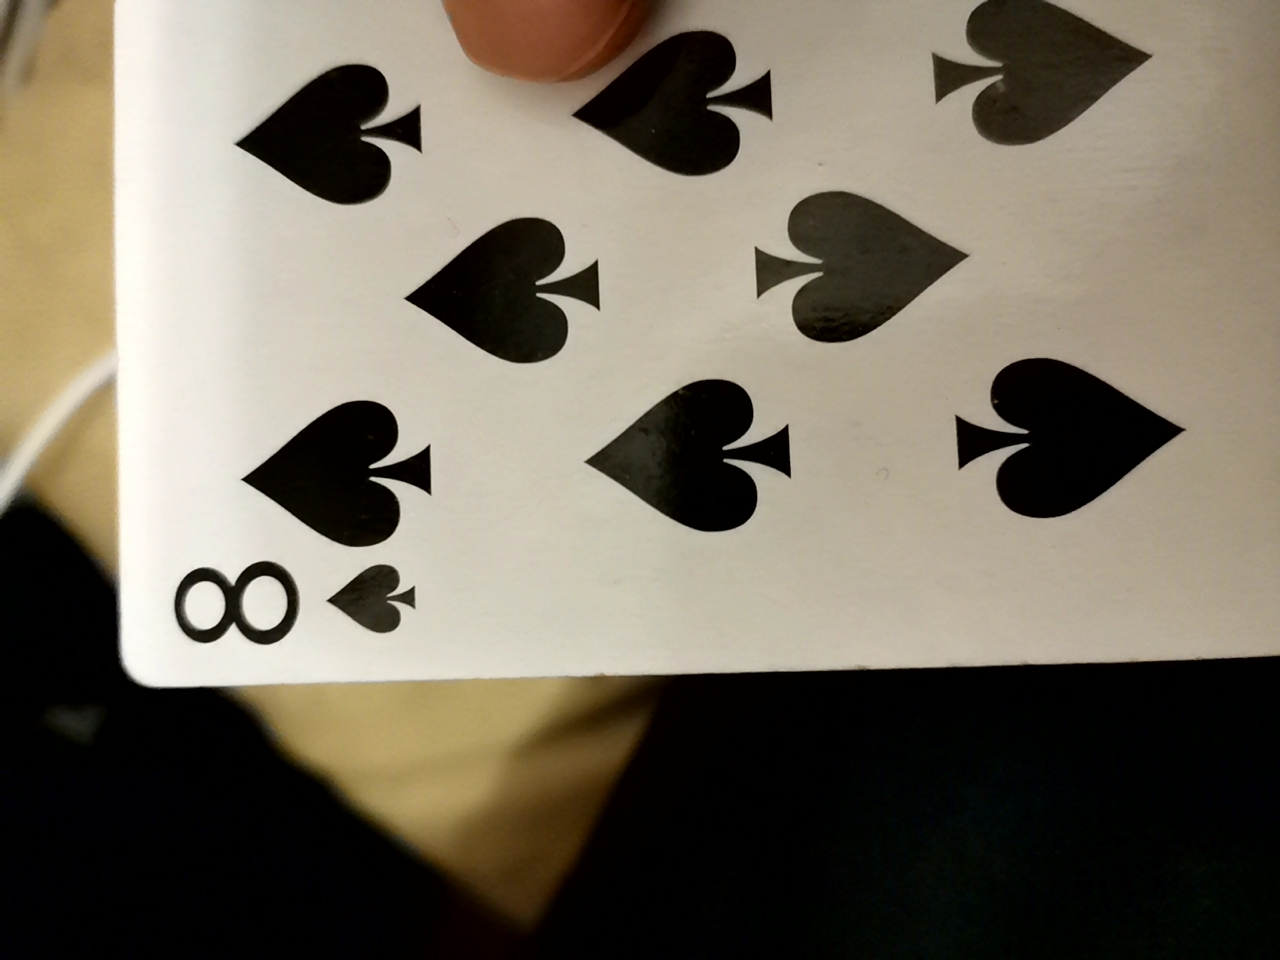ht 8: (72, 9, 1266, 713)
